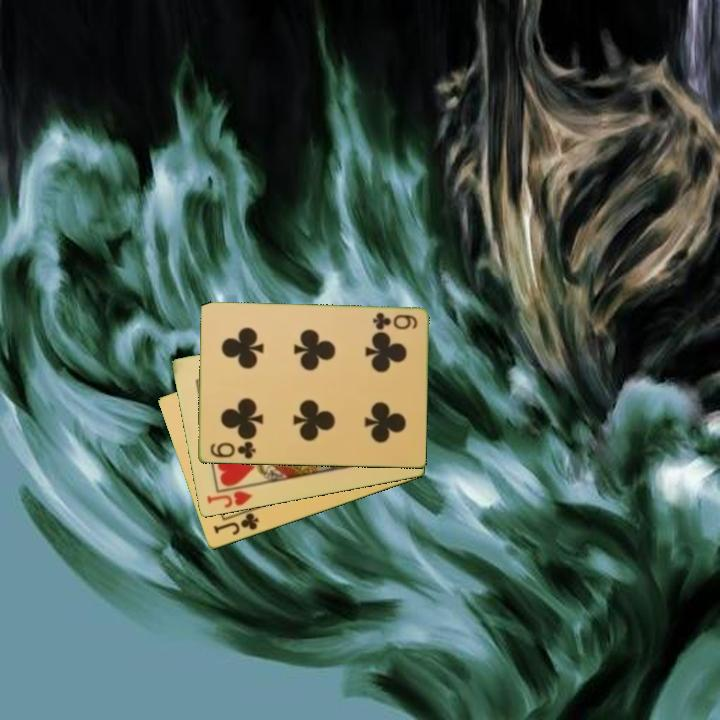6c: (206, 438, 258, 462), (369, 309, 420, 333)
Jc: (209, 509, 261, 539)
Jh: (203, 487, 255, 511)
